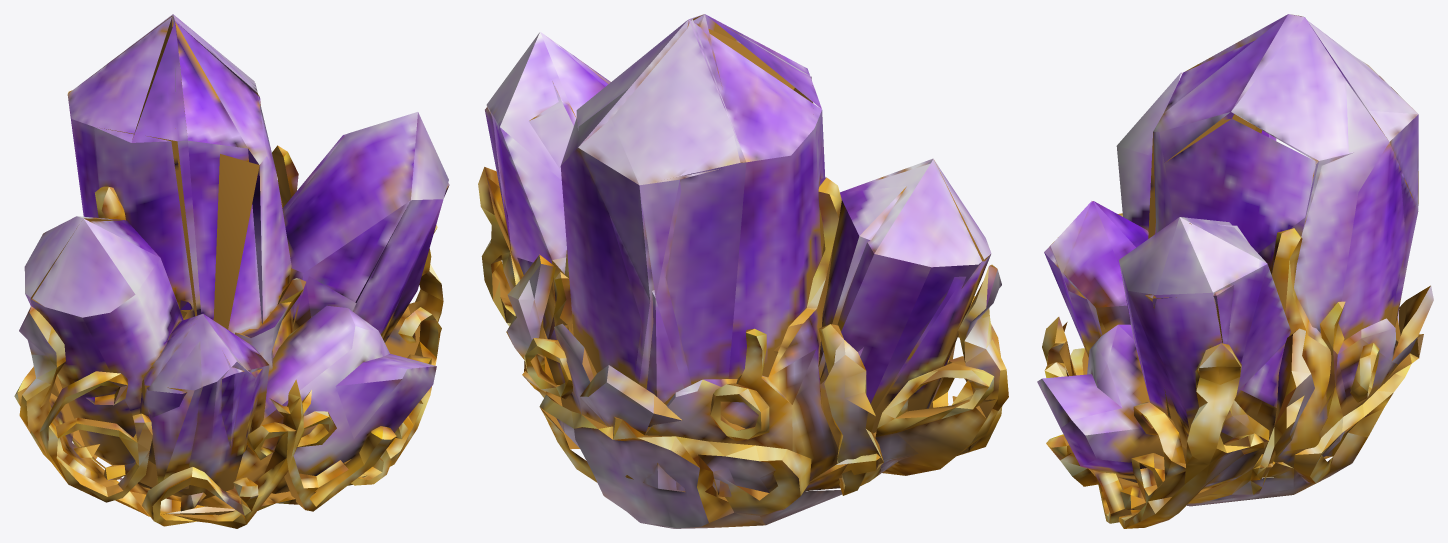
The model's file is item_maw_craft_gem13.glb.
3 views of the same model, side by side, from view 1: azimuth 30°, elevation 25°; view 2: azimuth 150°, elevation 25°; view 3: azimuth 270°, elevation 25° (orthographic). The views are drawn at different scales.
Visible parts, largest first — view 1: maw_gem13; view 2: maw_gem13; view 3: maw_gem13.
Boxes of the visible parts, x1,y1,x2,y2 form: maw_gem13: (14, 14, 449, 528); maw_gem13: (478, 14, 1008, 528); maw_gem13: (1037, 14, 1433, 528).
Bounding box in the file's own units: 0.9996 × 0.9704 × 0.7716.
1 material, 1 textured.
